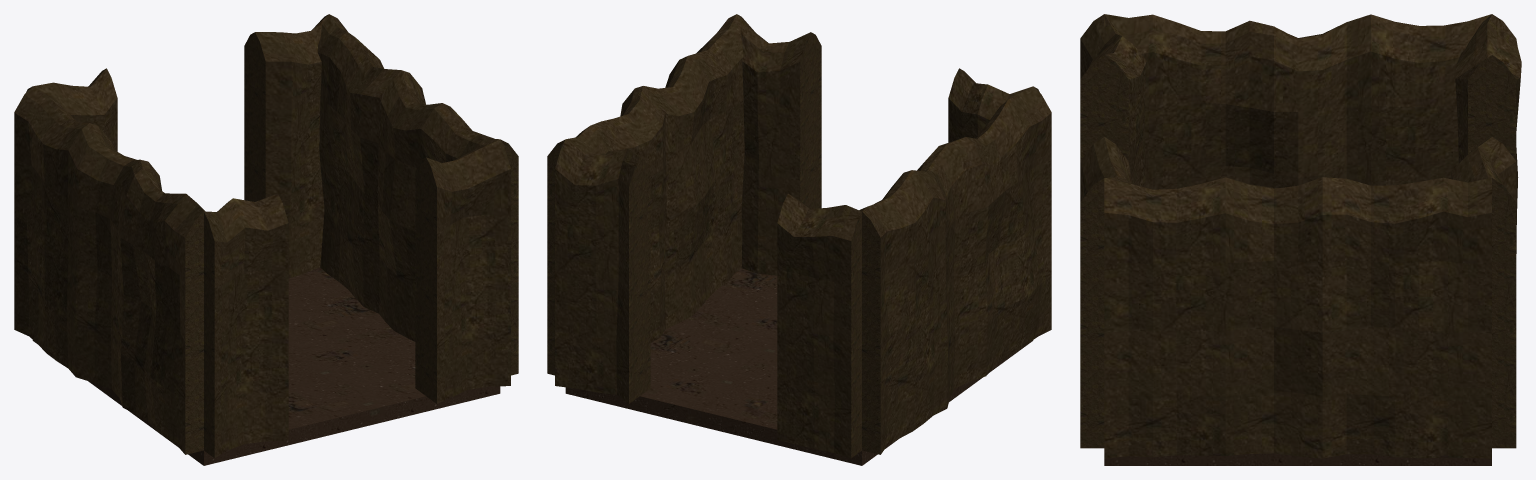
Rendered from cave_room_01_dirt.glb.
The picture shows the model from 3 angles, left to right: view 1: azimuth 30°, elevation 25°; view 2: azimuth 150°, elevation 25°; view 3: azimuth 270°, elevation 25°; orthographic projection. The views are drawn at different scales.
Visible parts, largest first — view 1: cave_room_01_dirt; view 2: cave_room_01_dirt; view 3: cave_room_01_dirt.
Boxes of the visible parts, left/top/right/bottom form: cave_room_01_dirt: left=14, top=14, right=518, bottom=465; cave_room_01_dirt: left=547, top=14, right=1051, bottom=465; cave_room_01_dirt: left=1080, top=14, right=1521, bottom=465.
Bounding box in the file's own units: 4.58 × 3.3 × 4.56.
Materials: 2 (2 with a texture image).
